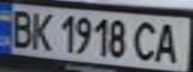1: (90, 15, 112, 56), (54, 11, 75, 53)
8: (106, 16, 130, 60)
9: (72, 13, 93, 55)
A: (151, 19, 184, 64)
B: (3, 7, 36, 50)
C: (130, 18, 160, 62)
K: (27, 9, 57, 52)
